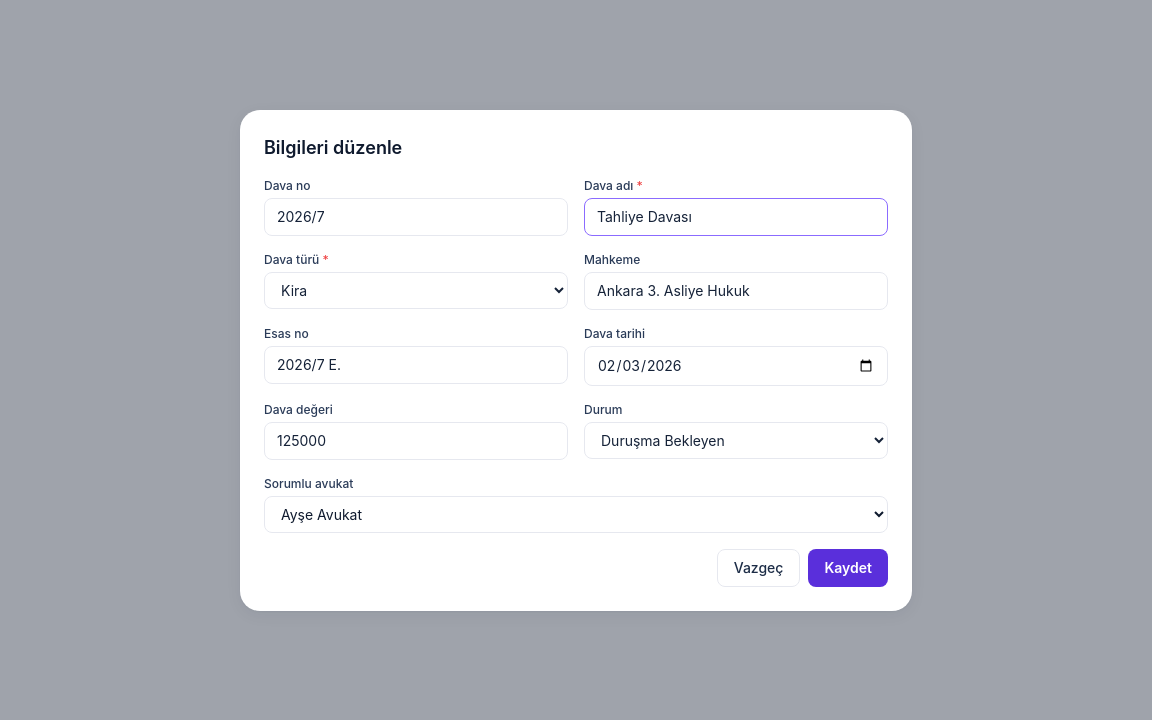
Test: responsible lawyer (admin) › keeps the dialog open when only the assignment fails
Select "Zeynep Arslan" in the dropdown labelled "Sorumlu avukat" at (576, 514), box [264,496,888,532]
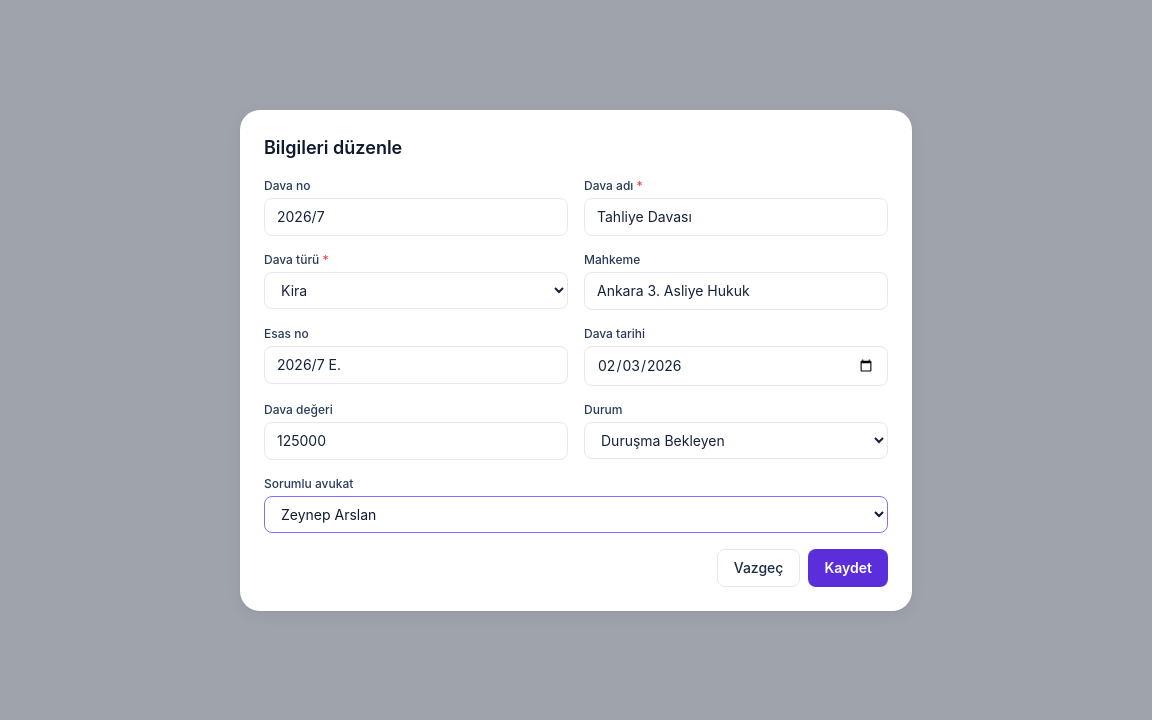
Click the button "Kaydet" at (848, 568), box [808,548,888,586]
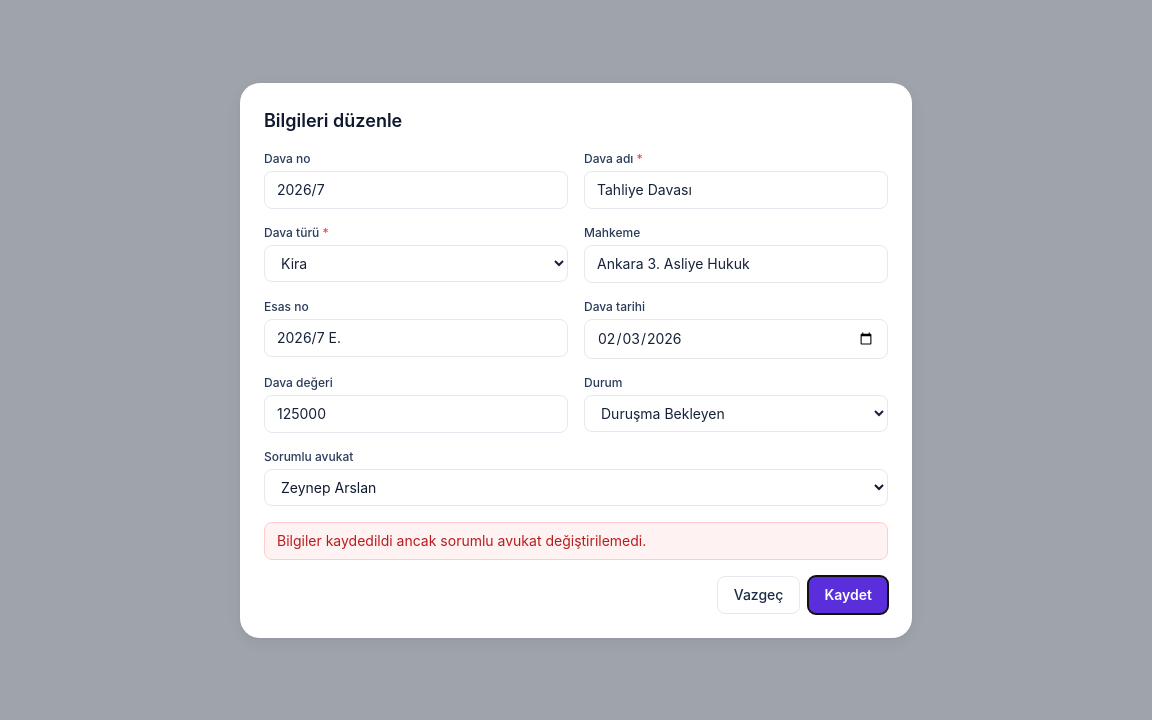
Expected: the dialog is shown, [240,82,912,638]
Result: the text "Bilgiler kaydedildi ancak sorumlu avukat değiştirilemedi." is shown at [264,522,888,560]
